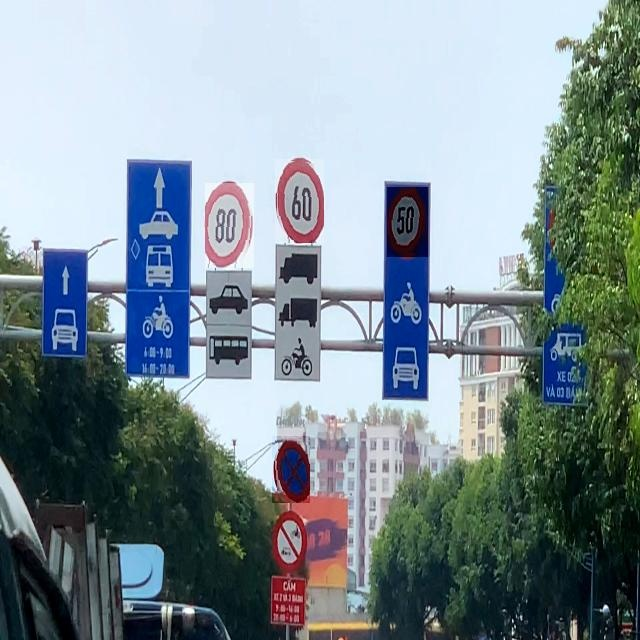bien_cam: (205, 183, 254, 268), (275, 159, 324, 243), (387, 188, 428, 258), (272, 436, 310, 503)
